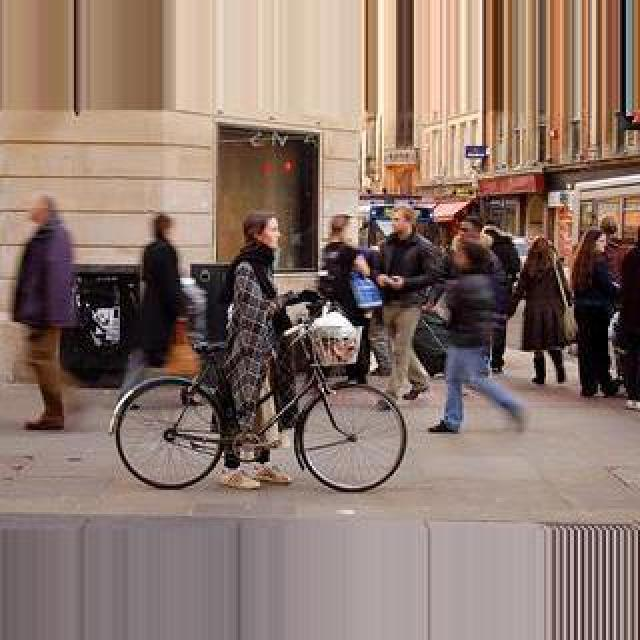MC-Bike: (422, 222, 528, 436), (220, 208, 292, 470), (364, 206, 452, 406), (8, 194, 80, 436), (322, 218, 382, 384), (570, 224, 620, 402), (516, 234, 572, 386), (138, 214, 184, 374), (482, 224, 520, 372)
Person: (114, 310, 408, 496)
